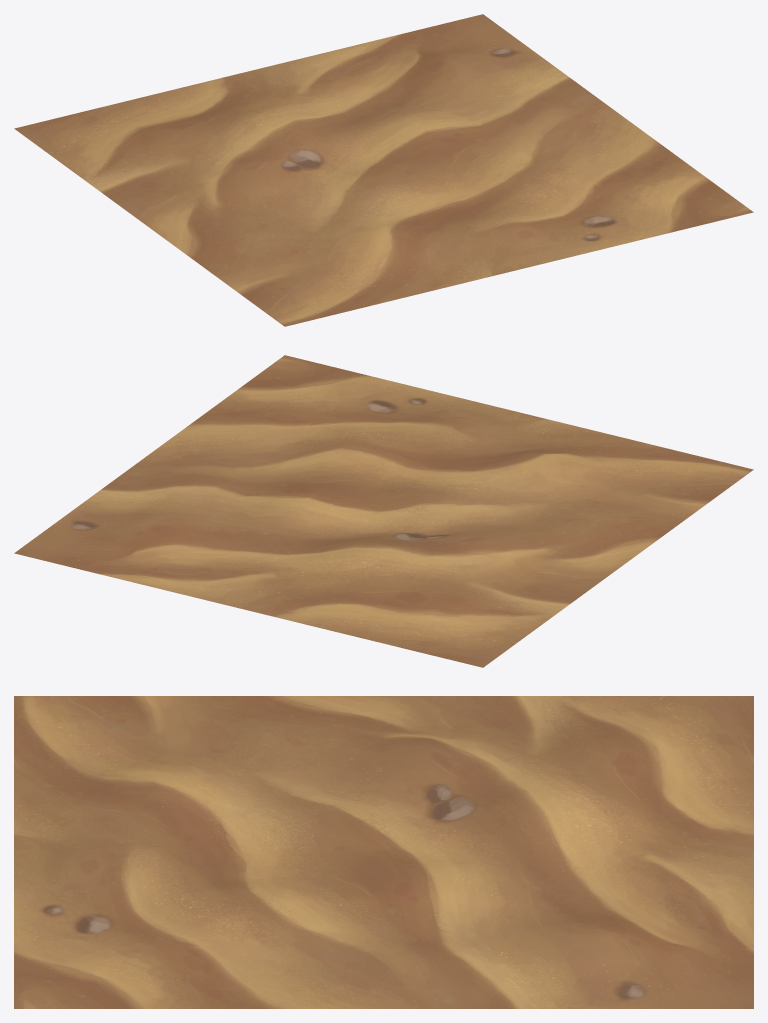
The model's file is sand_grid_small.fbx.
3 renders of one model, top to bottom at view 1: azimuth 30°, elevation 25°; view 2: azimuth 150°, elevation 25°; view 3: azimuth 270°, elevation 25°, orthographic. The views are drawn at different scales.
Parts seen in each view (by area): view 1: sand_grid_small; view 2: sand_grid_small; view 3: sand_grid_small.
Part boxes in pixels (x1=…): sand_grid_small: x1=14, y1=14, x2=753, y2=326; sand_grid_small: x1=14, y1=355, x2=753, y2=667; sand_grid_small: x1=14, y1=696, x2=753, y2=1008.
Size of the model in its own units: 2 by 0.0651 by 2.
